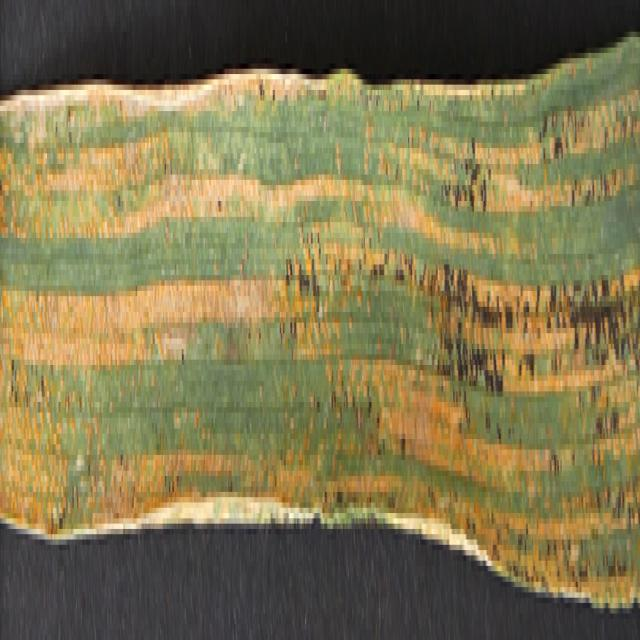leaf rust: (0, 90, 640, 582)
